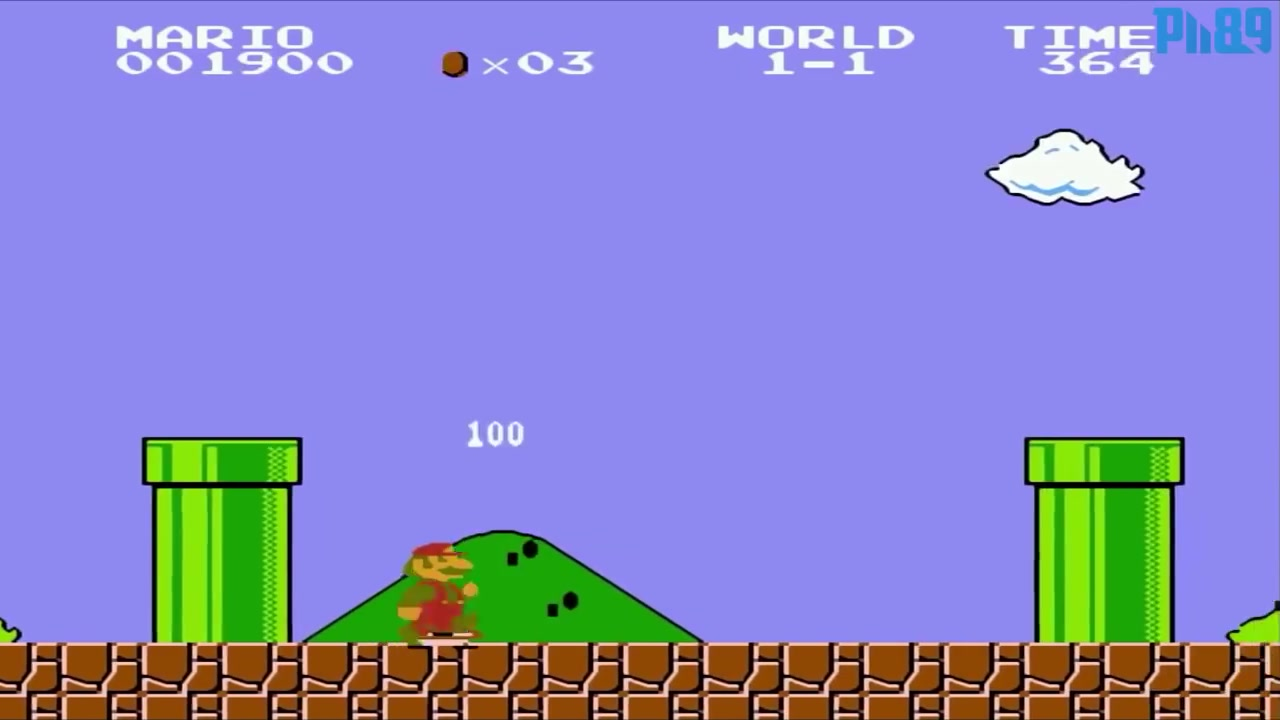mario: (396, 539, 483, 642)
